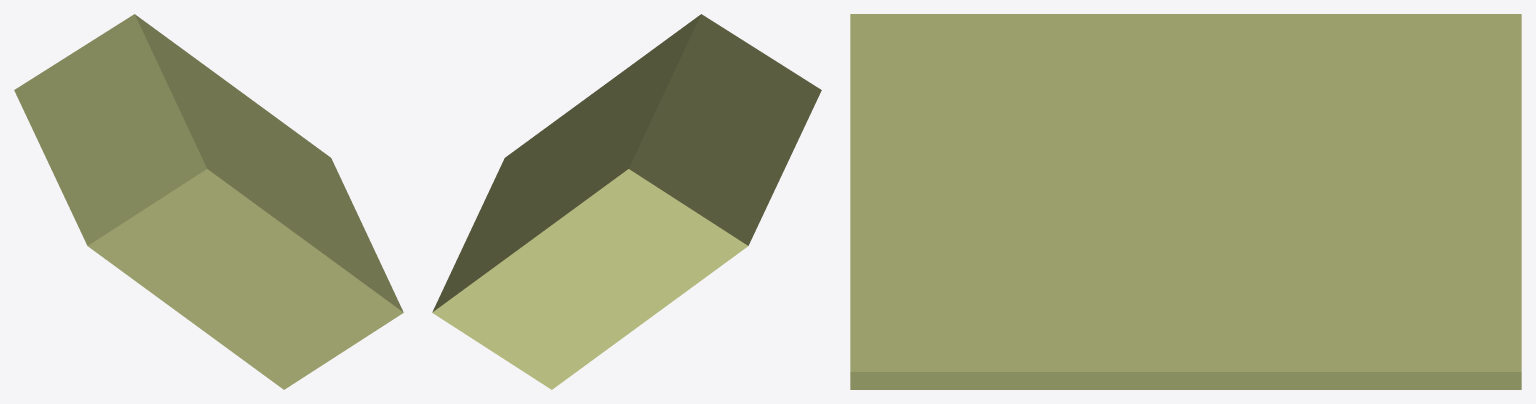
3 renders of one model, left to right at view 1: azimuth 30°, elevation 25°; view 2: azimuth 150°, elevation 25°; view 3: azimuth 270°, elevation 25°, orthographic. The views are drawn at different scales.
Visible parts, largest first — view 1: 0_0_1_3_1_2_3_1_1_2; view 2: 0_0_1_3_1_2_3_1_1_2; view 3: 0_0_1_3_1_2_3_1_1_2.
Boxes of the visible parts, x1,y1,x2,y2 form: 0_0_1_3_1_2_3_1_1_2: [14, 14, 403, 389]; 0_0_1_3_1_2_3_1_1_2: [432, 14, 821, 389]; 0_0_1_3_1_2_3_1_1_2: [850, 14, 1521, 389].
Size of the model in its own units: 5.1 by 5.57 by 9.
